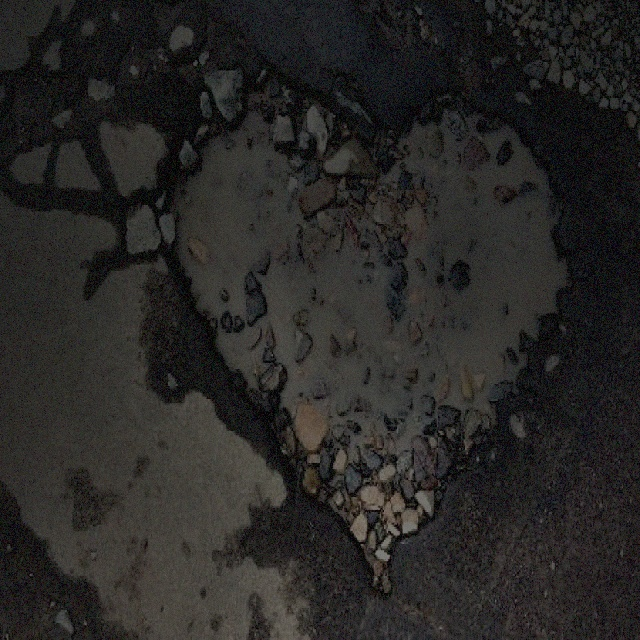pothole: (151, 56, 576, 593)
